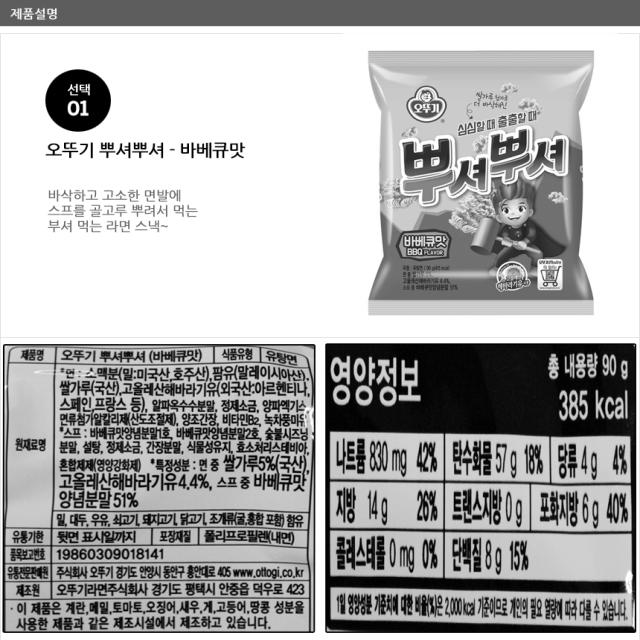Nutrition Label: (321, 337, 638, 638)
